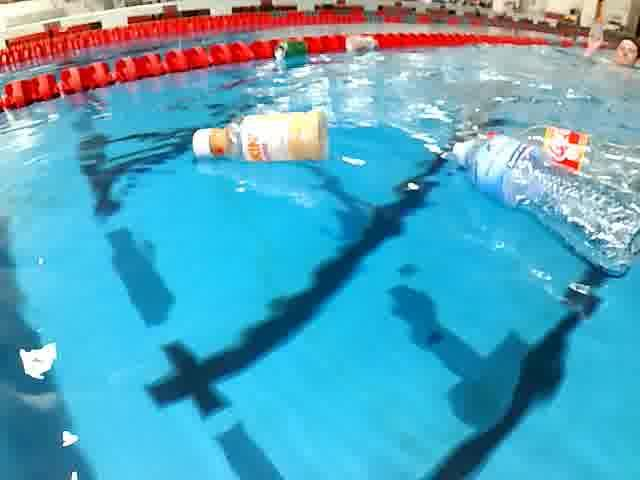Bottle: (448, 134, 640, 280), (502, 116, 640, 198), (174, 104, 342, 168), (334, 36, 382, 56)
Can: (268, 38, 318, 64)
